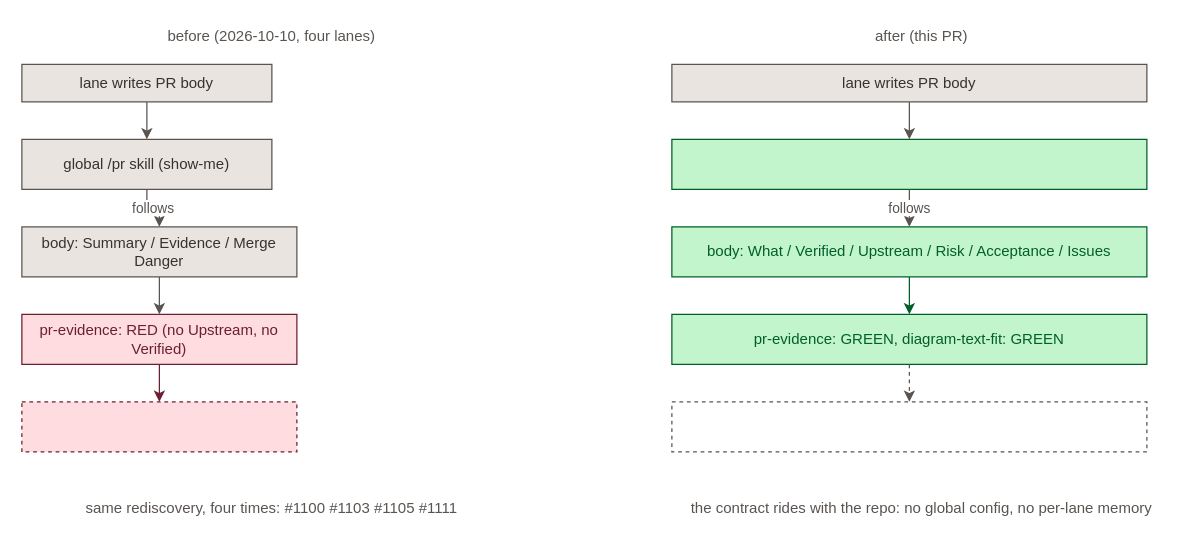
Image size: 1194x548. Some labels were removed from this diagram. The centre of each missing label's shape, as x and y in pixels:
"if still red: gate names the contract (template path + repo skill)" belongs at point 909,426.
"lane hand-rewrites the body, gate re-runs" belongs at point 159,426.
"repo skill .claude/skills/pr-pacman (in-repo, versioned)" belongs at point 909,163.
